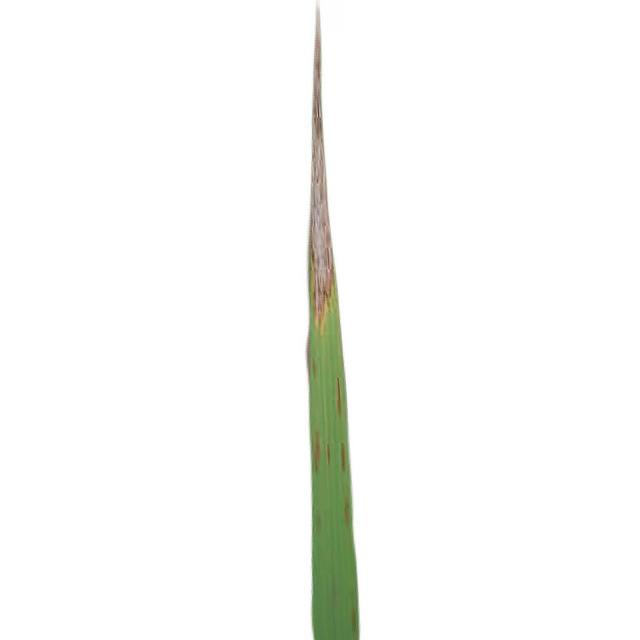Leaf scald: (202, 0, 424, 640)
